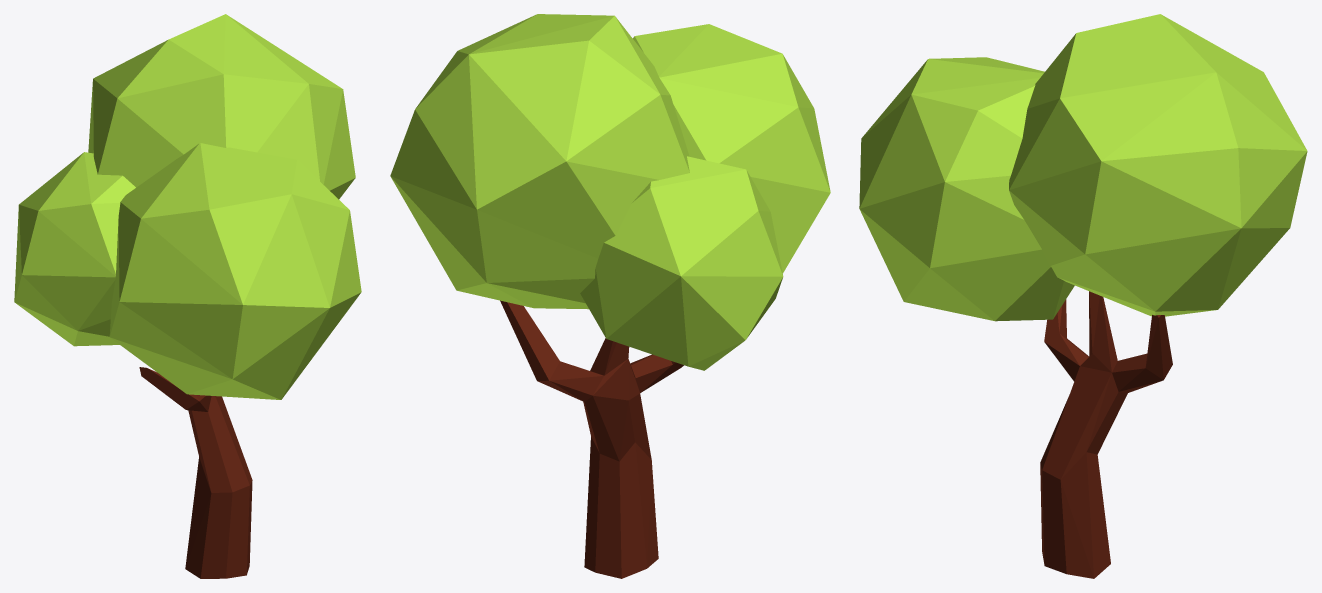
The model's file is Tree Green.fbx.
3 views of the same model, side by side, from view 1: azimuth 30°, elevation 25°; view 2: azimuth 150°, elevation 25°; view 3: azimuth 270°, elevation 25° (orthographic). The views are drawn at different scales.
Visible parts, largest first — view 1: Green Tree 1.001; view 2: Green Tree 1.001; view 3: Green Tree 1.001.
Boxes of the visible parts, x1,y1,x2,y2 form: Green Tree 1.001: [14, 14, 361, 578]; Green Tree 1.001: [390, 14, 830, 578]; Green Tree 1.001: [859, 14, 1307, 578].
Bounding box in the file's own units: 2.48 × 3.85 × 2.86.
